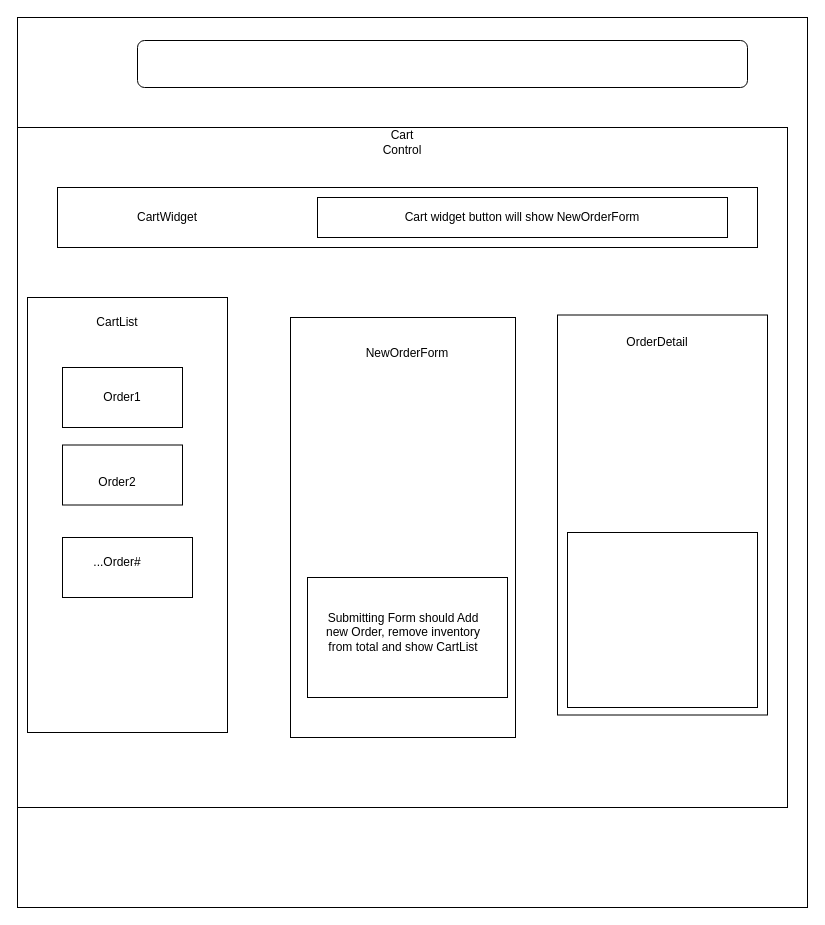
Some shapes in this 825 by 925 pixel diagram are drawn without their labels. The shapes that lost their labels are listed below. From the top down, each one's centre as x and y in pixels, then its label:
the point at 442,64: Header
the point at 662,620: Update/Delete: should allow for update and delete functina;ity
